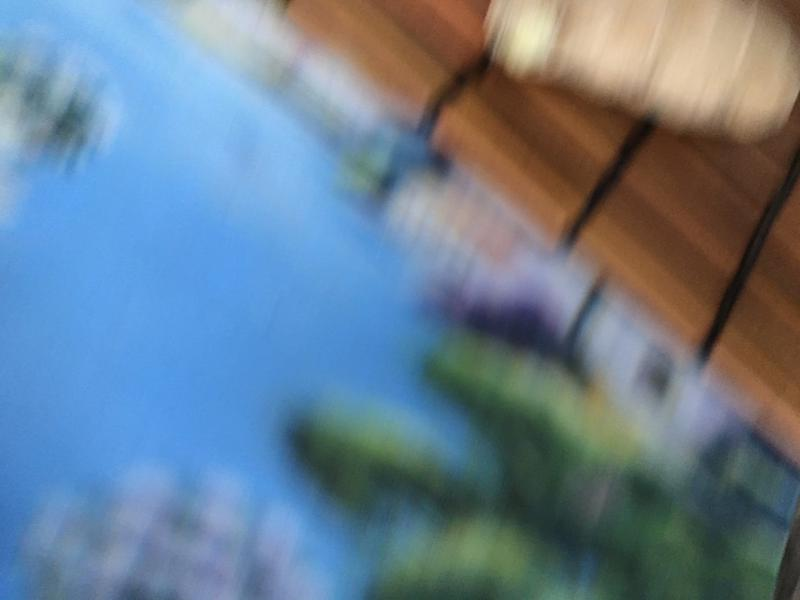ginger: (477, 1, 793, 150)
